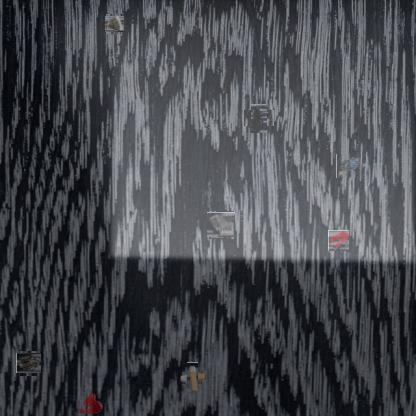dirty: (208, 212, 235, 238), (336, 154, 361, 178), (248, 107, 271, 130), (18, 352, 40, 375), (182, 367, 203, 389), (106, 16, 124, 34)
liquid: (77, 392, 103, 414), (328, 230, 349, 251)
